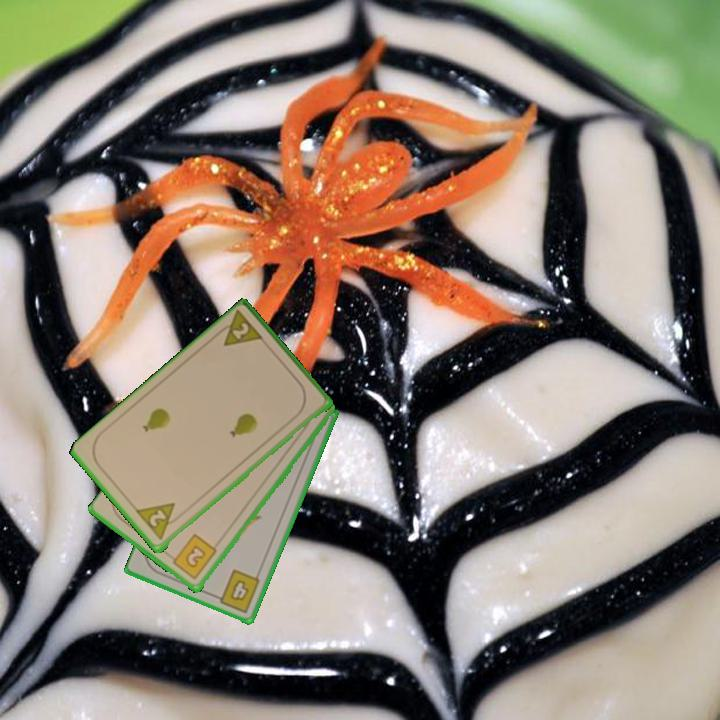2b: (165, 531, 220, 583)
2p: (212, 308, 267, 350), (133, 499, 185, 543)
4b: (211, 566, 263, 616)
